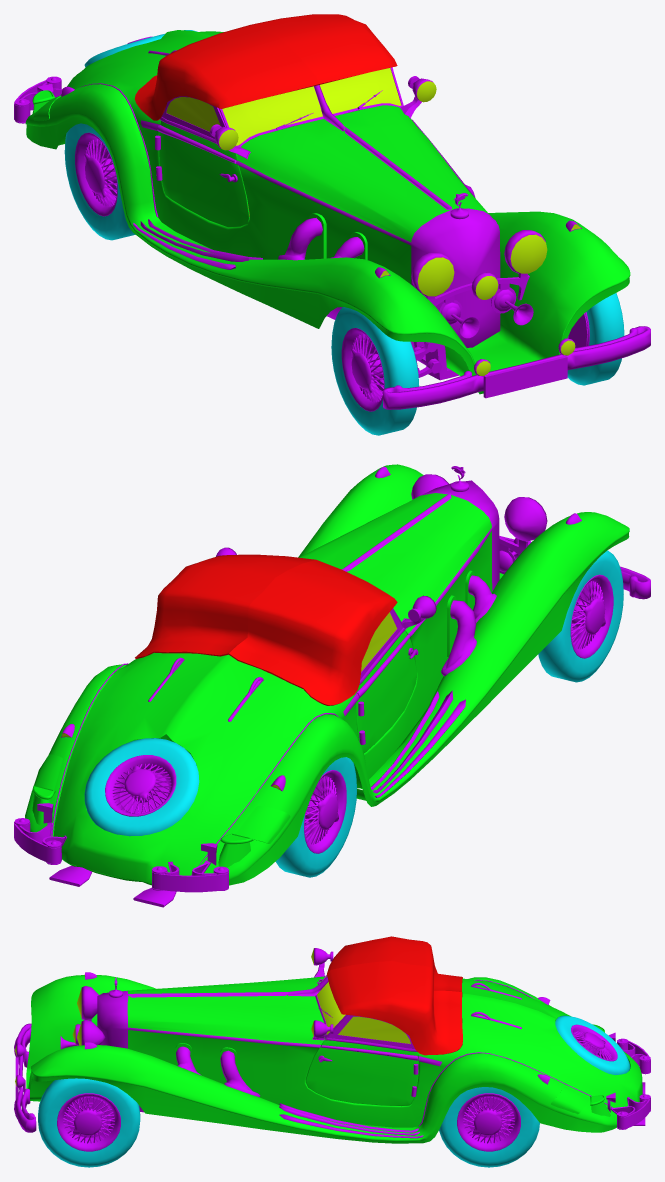
The model's file is xingyaopaoche.fbx.
3 renders of one model, top to bottom at view 1: azimuth 30°, elevation 25°; view 2: azimuth 150°, elevation 25°; view 3: azimuth 270°, elevation 25°, orthographic. The views are drawn at different scales.
Visible parts, largest first — view 1: xingyaopaoche; view 2: xingyaopaoche; view 3: xingyaopaoche.
Boxes of the visible parts, <box> form: xingyaopaoche: <box>14,14,650,435</box>; xingyaopaoche: <box>14,464,650,907</box>; xingyaopaoche: <box>14,936,650,1167</box>.
Size of the model in its own units: 1.82 by 1.44 by 5.04.
